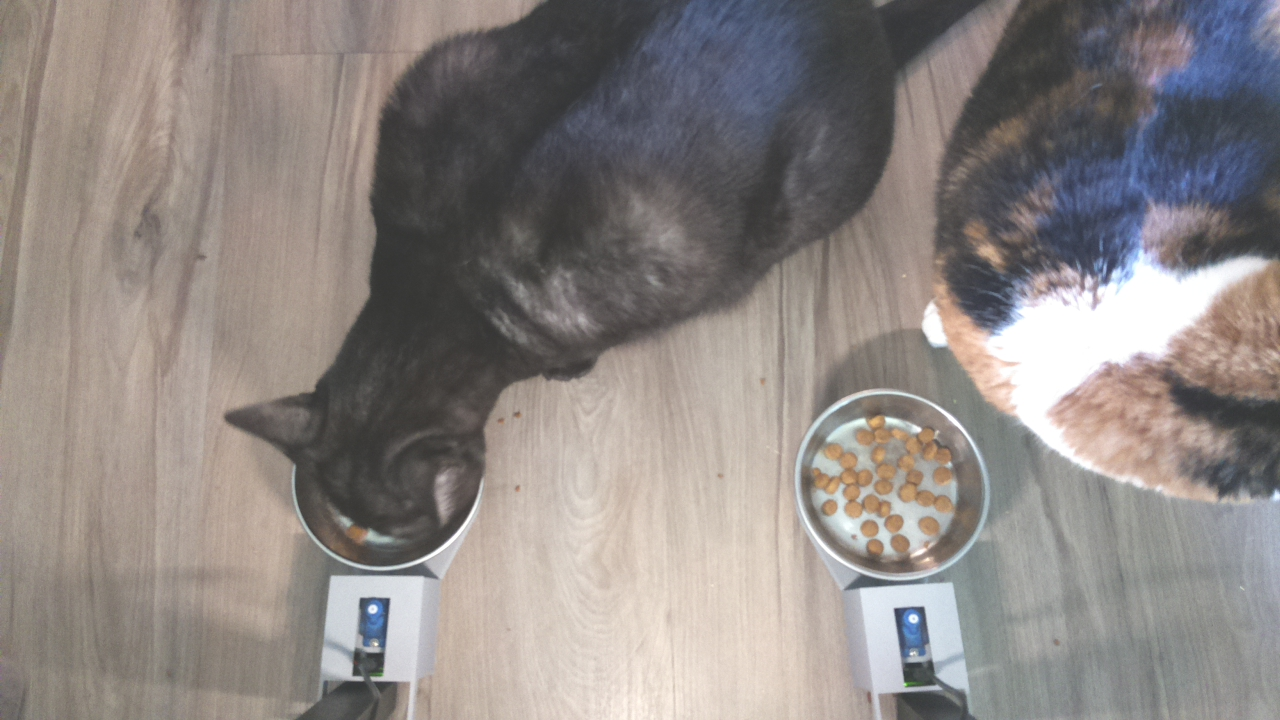open_bowl: (791, 383, 998, 591)
saki_eating: (218, 318, 501, 580)
